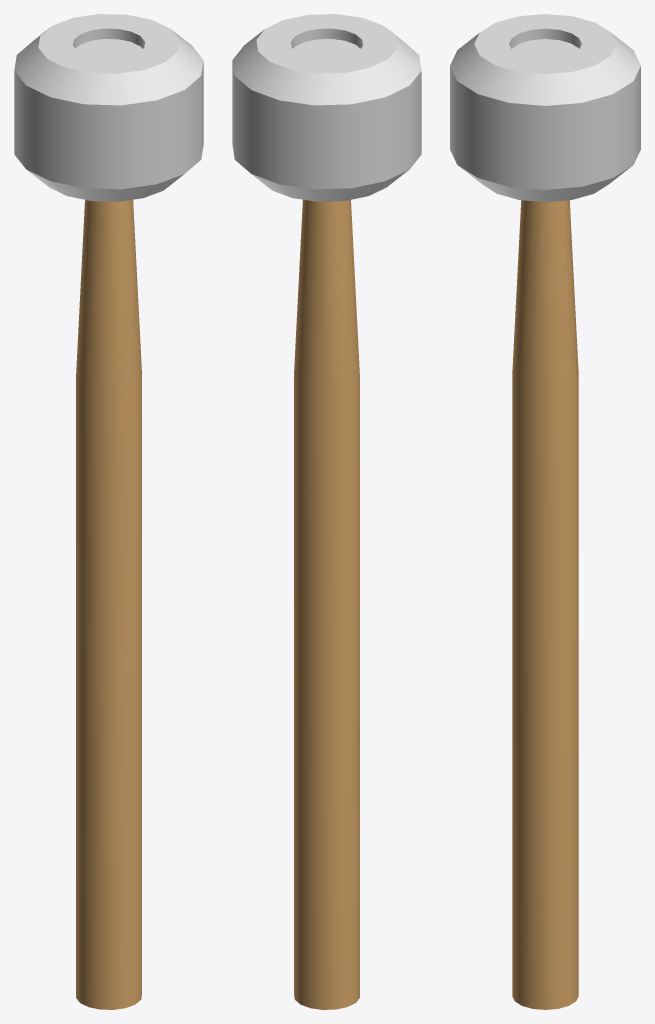
File: Drumstick.fbx
3 views of the same model, side by side, from view 1: azimuth 30°, elevation 25°; view 2: azimuth 150°, elevation 25°; view 3: azimuth 270°, elevation 25° (orthographic).
Visible parts, largest first — view 1: Cylinder; view 2: Cylinder; view 3: Cylinder.
Boxes of the visible parts, x1=… form: Cylinder: x1=14, y1=14, x2=203, y2=1009; Cylinder: x1=232, y1=14, x2=421, y2=1009; Cylinder: x1=450, y1=14, x2=640, y2=1009.
Bounding box in the file's own units: 30.49 × 168 × 30.49.
